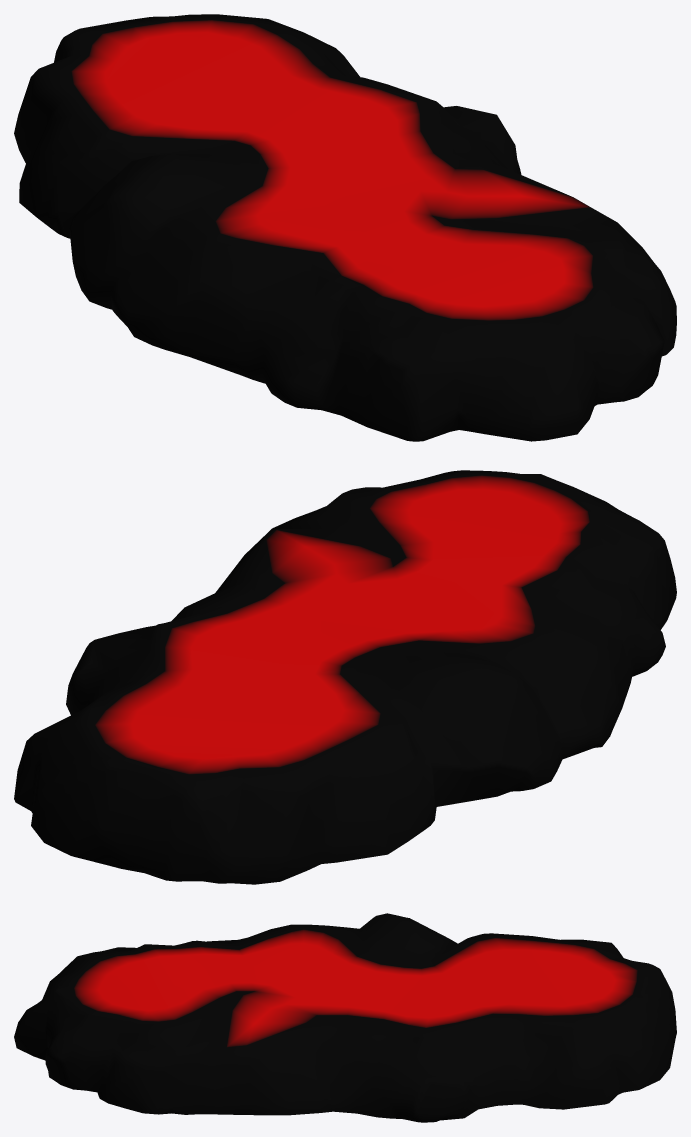
The model's file is Shitou_hill_09.fbx.
3 renders of one model, top to bottom at view 1: azimuth 30°, elevation 25°; view 2: azimuth 150°, elevation 25°; view 3: azimuth 270°, elevation 25°, orthographic. The views are drawn at different scales.
Parts seen in each view (by area): view 1: Shitou_hill_09_LOD0; view 2: Shitou_hill_09_LOD0; view 3: Shitou_hill_09_LOD0.
Part boxes in pixels (box(x1,y1,x2,y2)): Shitou_hill_09_LOD0: box(14, 14, 676, 441); Shitou_hill_09_LOD0: box(14, 470, 676, 884); Shitou_hill_09_LOD0: box(14, 913, 676, 1122).
Bounding box in the file's own units: 392 × 88.95 × 692.
